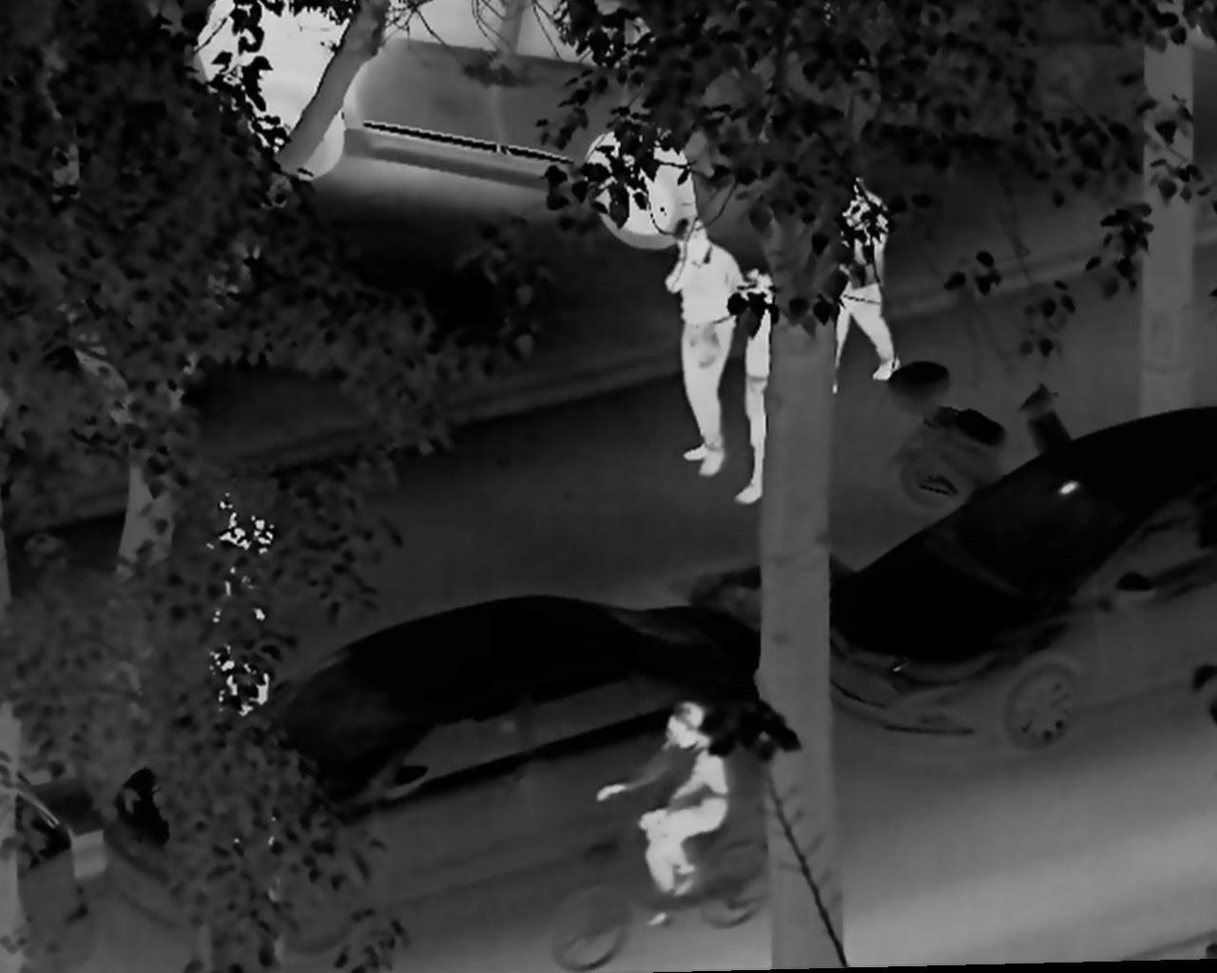person: (594, 693, 728, 939), (655, 219, 744, 478), (189, 479, 280, 729), (726, 242, 795, 515), (826, 176, 903, 399)
